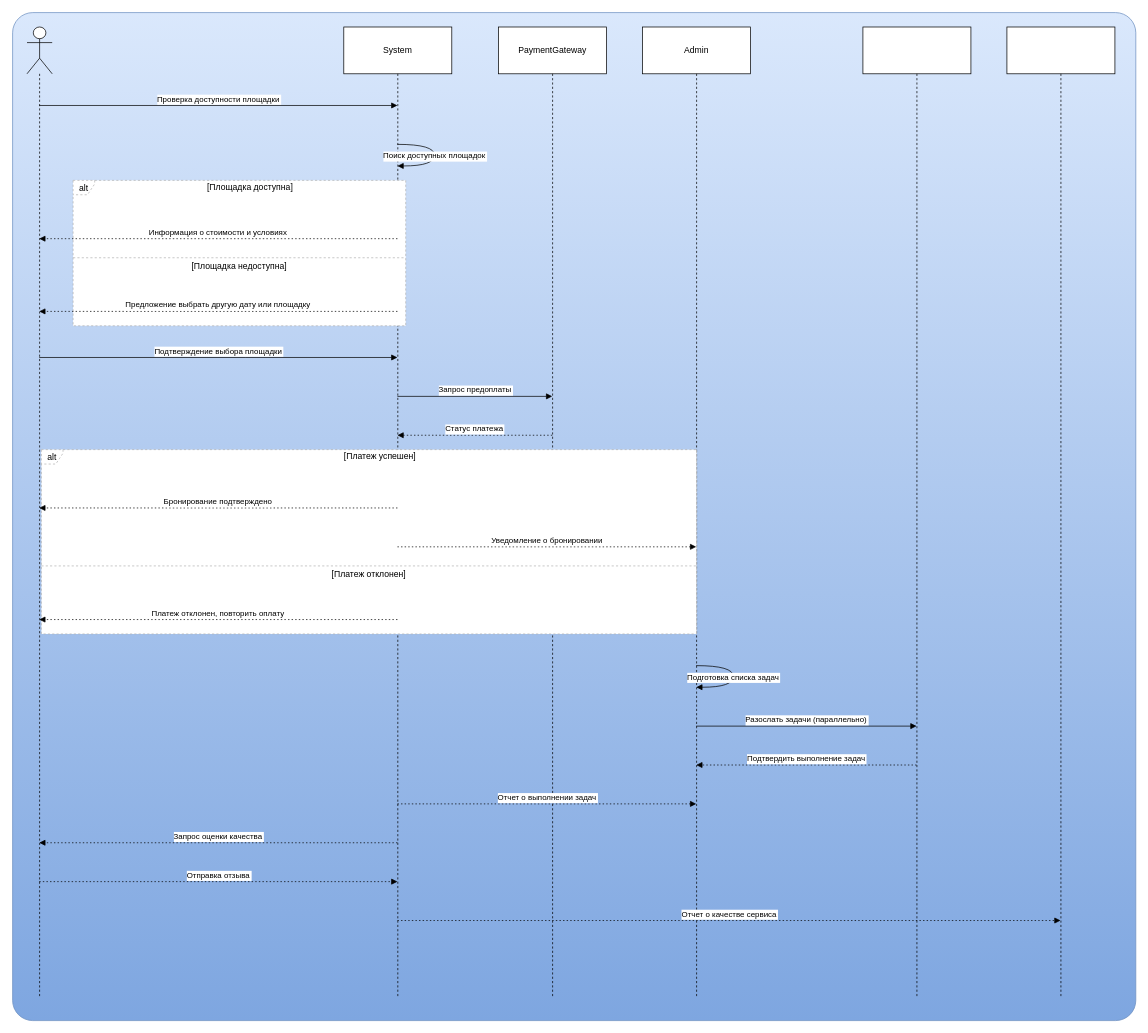
Image size: 1148x1033. Some labels were removed from this diagram. Here are the shapes that lost their labels. From the top down, the box of each, then its label:
(26, 26, 52, 996): Client
(862, 26, 971, 996): Contractor
(1006, 26, 1115, 996): Manager
